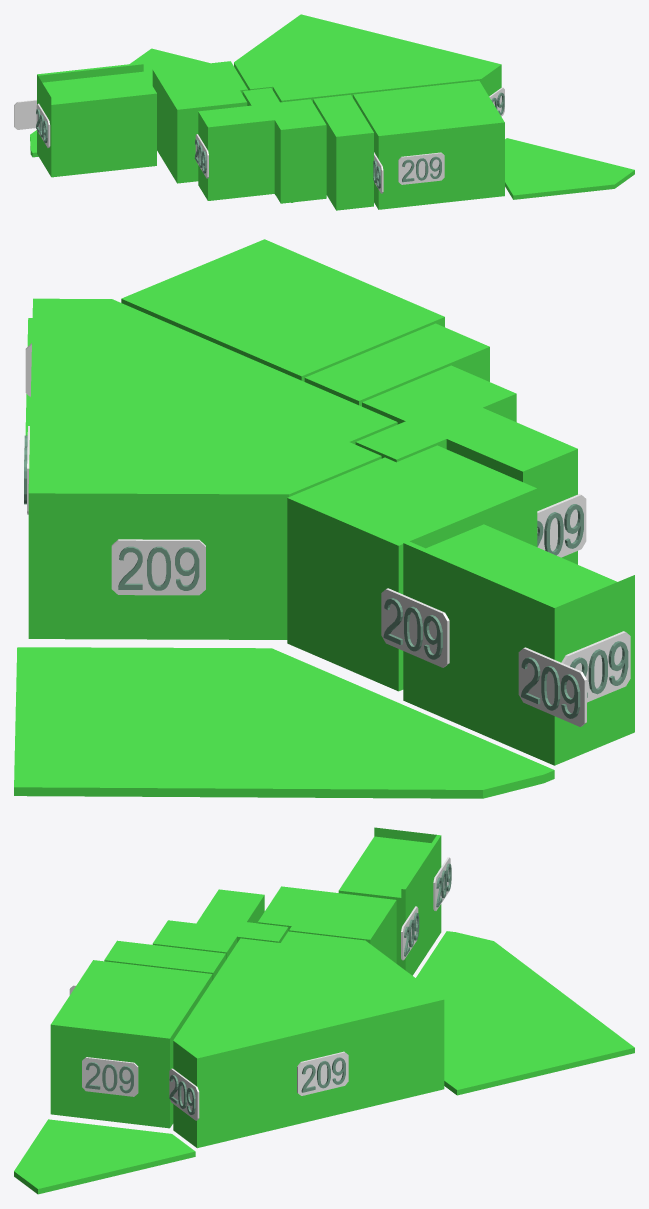
The picture shows the model from 3 angles, top to bottom: view 1: azimuth 30°, elevation 25°; view 2: azimuth 150°, elevation 25°; view 3: azimuth 270°, elevation 25°; orthographic projection. The views are drawn at different scales.
Parts seen in each view (by area): view 1: g_0, g_1, g_3, g_5, g_4, g_2, g_7, g_6, g_31, g_15; view 2: g_0, g_6, g_5, g_4, g_1, g_3, g_2, g_35, g_15, g_11, g_47, g_43; view 3: g_0, g_6, g_1, g_7, g_5, g_4, g_3, g_2, g_23, g_19, g_27.
Boxes of the visible parts, x1=… form: g_0: x1=234, y1=14, x2=501, y2=102; g_1: x1=353, y1=81, x2=504, y2=209; g_3: x1=198, y1=88, x2=326, y2=203; g_5: x1=37, y1=62, x2=156, y2=177; g_4: x1=152, y1=61, x2=247, y2=183; g_2: x1=313, y1=94, x2=373, y2=210; g_7: x1=505, y1=138, x2=634, y2=199; g_6: x1=30, y1=48, x2=209, y2=157; g_31: x1=398, y1=152, x2=444, y2=184; g_15: x1=14, y1=99, x2=36, y2=129; g_0: x1=28, y1=298, x2=397, y2=639; g_6: x1=14, y1=647, x2=554, y2=798; g_5: x1=403, y1=524, x2=634, y2=765; g_4: x1=287, y1=445, x2=537, y2=691; g_1: x1=121, y1=239, x2=444, y2=381; g_3: x1=355, y1=365, x2=577, y2=564; g_2: x1=304, y1=323, x2=489, y2=406; g_35: x1=111, y1=539, x2=205, y2=595; g_15: x1=518, y1=647, x2=586, y2=726; g_11: x1=381, y1=588, x2=449, y2=667; g_47: x1=561, y1=631, x2=630, y2=702; g_43: x1=537, y1=494, x2=586, y2=557; g_0: x1=173, y1=931, x2=444, y2=1148; g_6: x1=416, y1=931, x2=634, y2=1095; g_1: x1=50, y1=960, x2=212, y2=1128; g_7: x1=14, y1=1119, x2=195, y2=1194; g_5: x1=338, y1=827, x2=441, y2=975; g_4: x1=257, y1=886, x2=396, y2=963; g_3: x1=152, y1=889, x2=288, y2=959; g_2: x1=104, y1=940, x2=225, y2=980; g_23: x1=82, y1=1057, x2=138, y2=1096; g_19: x1=297, y1=1051, x2=348, y2=1095; g_27: x1=169, y1=1068, x2=199, y2=1120.
Size of the model in its own units: 16 by 2.85 by 15.65.
